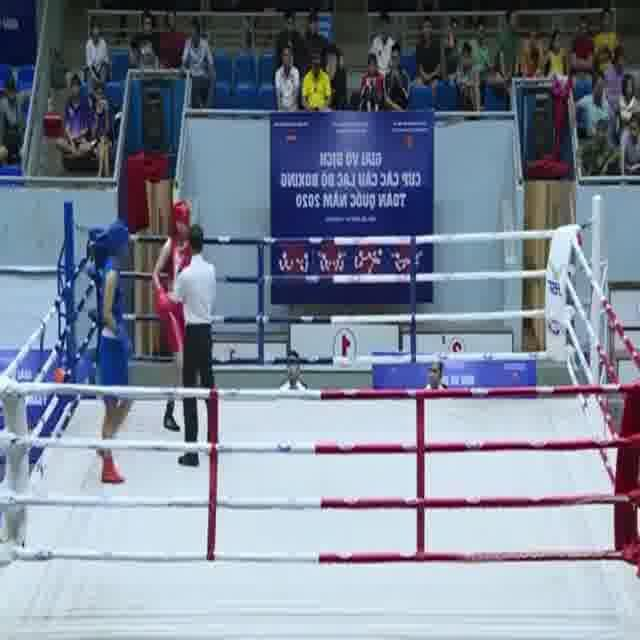blue-player: (87, 214, 138, 491)
red-player: (154, 197, 202, 431)
referee: (170, 224, 221, 470)
